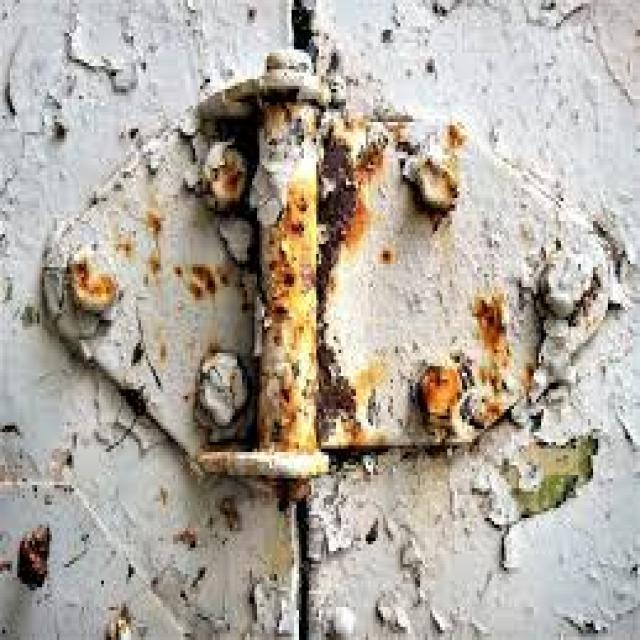Dry Waste: (147, 62, 530, 528)
